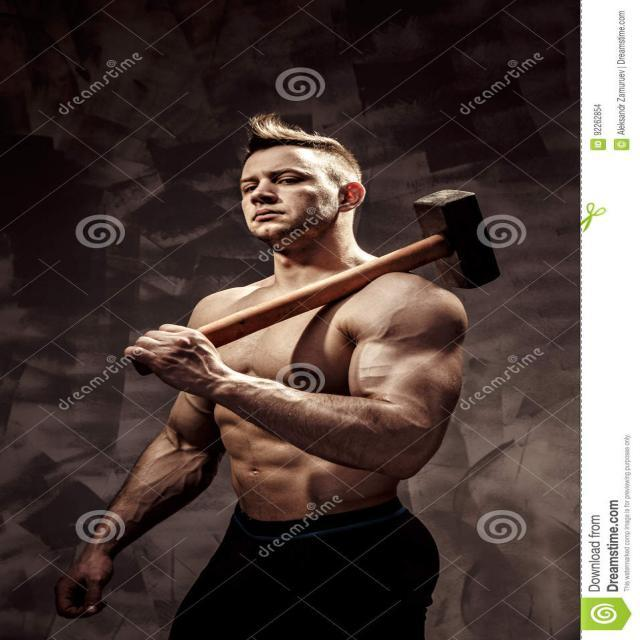hammer: (120, 182, 512, 382)
